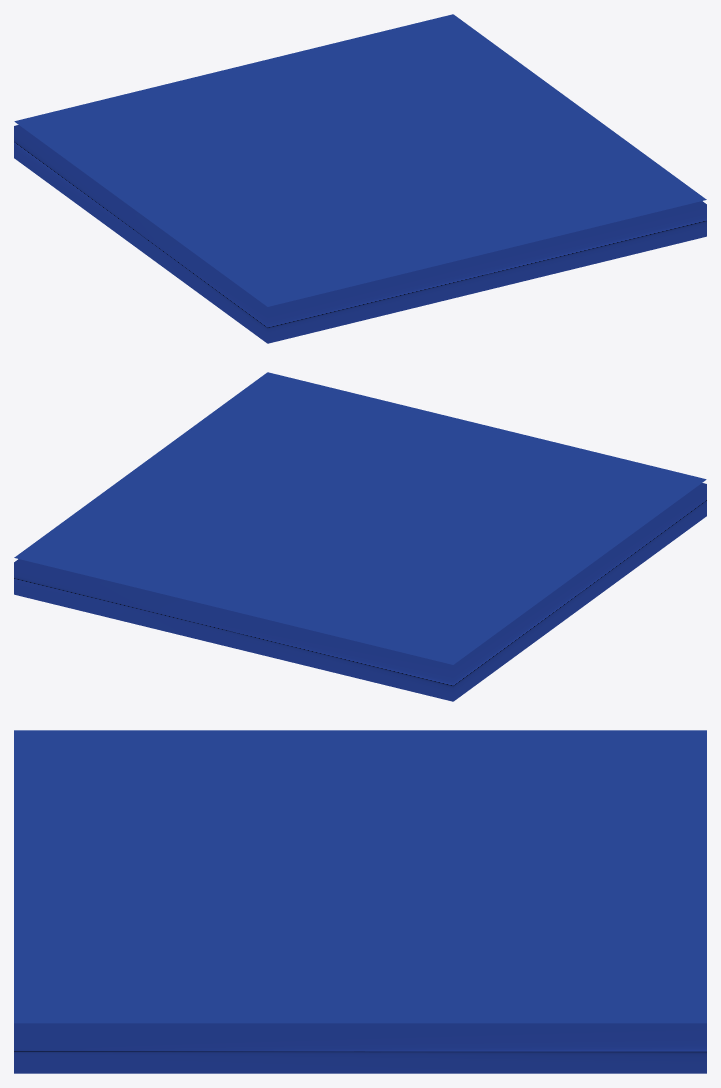
The model's file is water_deep.glb.
3 views of the same model, one above another, from view 1: azimuth 30°, elevation 25°; view 2: azimuth 150°, elevation 25°; view 3: azimuth 270°, elevation 25° (orthographic). The views are drawn at different scales.
Visible parts, largest first — view 1: Water.001; view 2: Water.001; view 3: Water.001.
Boxes of the visible parts, x1,y1,x2,y2 form: Water.001: [14, 14, 706, 343]; Water.001: [14, 372, 706, 701]; Water.001: [14, 730, 706, 1073].
Size of the model in its own units: 1 by 0.08 by 1.
